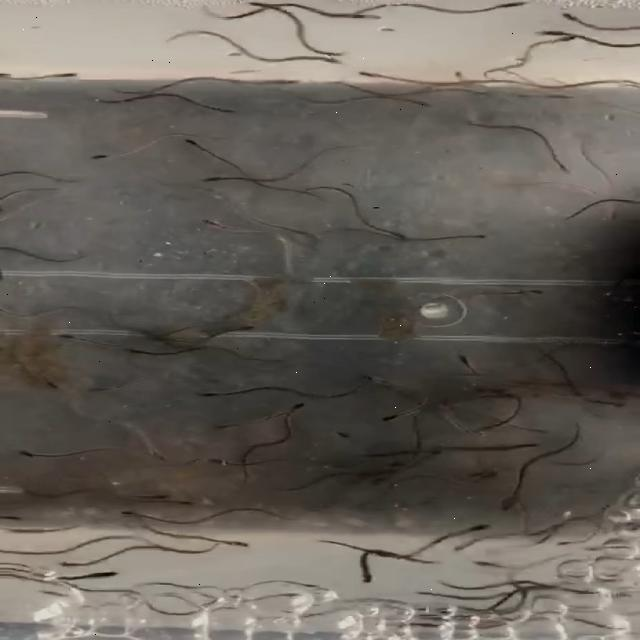active_glass_eel: (114, 507, 169, 524), (63, 520, 121, 536), (141, 496, 199, 511), (461, 554, 504, 574), (592, 78, 640, 95), (459, 465, 502, 483), (479, 0, 527, 16), (448, 350, 485, 370), (547, 159, 587, 177), (356, 471, 404, 486), (53, 570, 107, 582), (450, 70, 490, 86), (300, 52, 353, 64), (198, 216, 234, 233), (352, 66, 390, 82), (378, 221, 404, 244), (88, 148, 121, 166), (516, 437, 544, 458), (353, 566, 387, 583), (544, 32, 576, 50), (195, 173, 228, 190), (458, 522, 498, 536), (453, 533, 499, 545), (405, 556, 451, 568), (602, 397, 631, 416), (580, 502, 614, 518), (568, 532, 602, 548), (524, 92, 564, 105), (380, 406, 406, 426), (146, 486, 178, 502), (536, 25, 578, 37), (558, 13, 598, 25), (54, 331, 94, 343), (12, 549, 52, 561), (426, 400, 462, 413), (38, 373, 64, 391), (396, 96, 434, 108), (8, 449, 46, 461), (122, 344, 152, 359), (194, 389, 228, 402), (204, 102, 235, 116), (499, 500, 526, 516), (296, 230, 326, 244), (48, 68, 82, 80), (76, 562, 110, 574), (348, 10, 388, 20), (267, 76, 307, 86), (516, 288, 556, 298), (141, 448, 169, 462), (286, 395, 308, 411), (333, 428, 358, 442), (182, 136, 208, 148), (202, 422, 228, 434), (463, 232, 490, 243)
